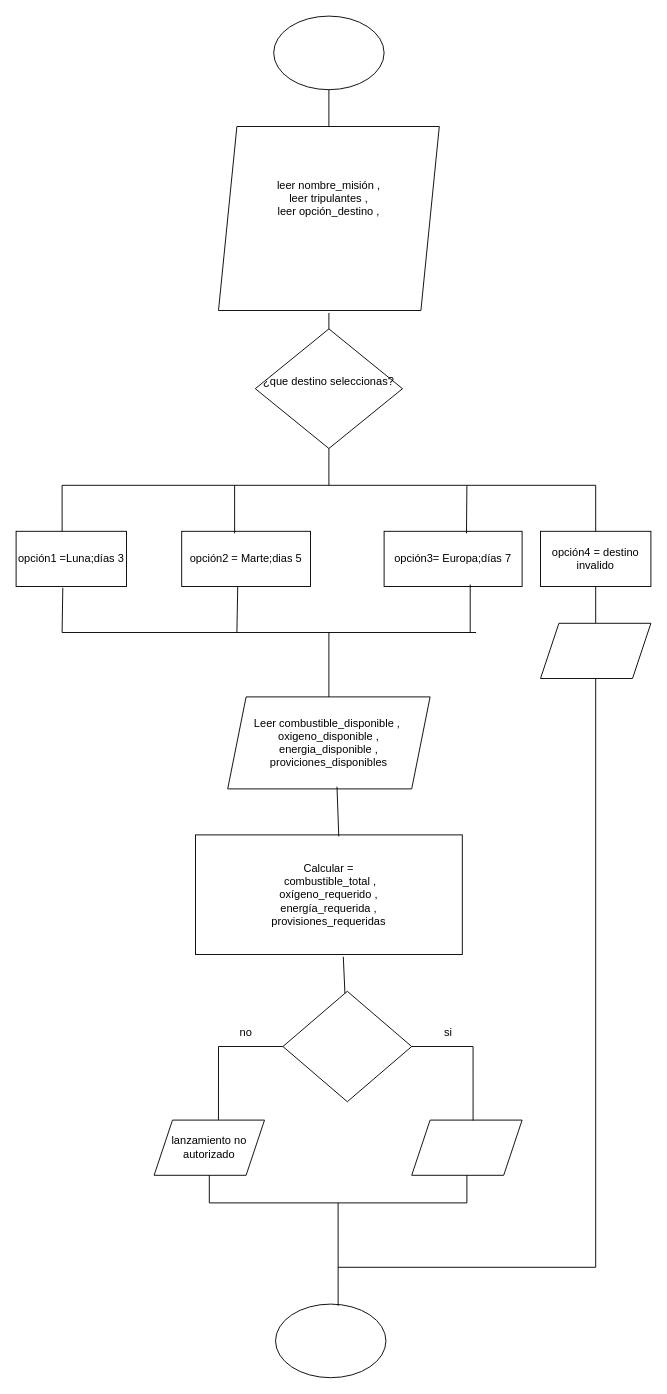
The diagram is 667 pixels wide and 1394 high, and some of its shapes have lost their labels. Here are the shapes that lost their labels. From the top down, the box of each, then its label:
(273, 15, 384, 90): inicio
(540, 622, 651, 678): inválido mostrar error
(282, 990, 412, 1102): ¿recursos suficiente?
(411, 1119, 522, 1175): lanzamiento autorizado
(275, 1303, 386, 1378): fin
